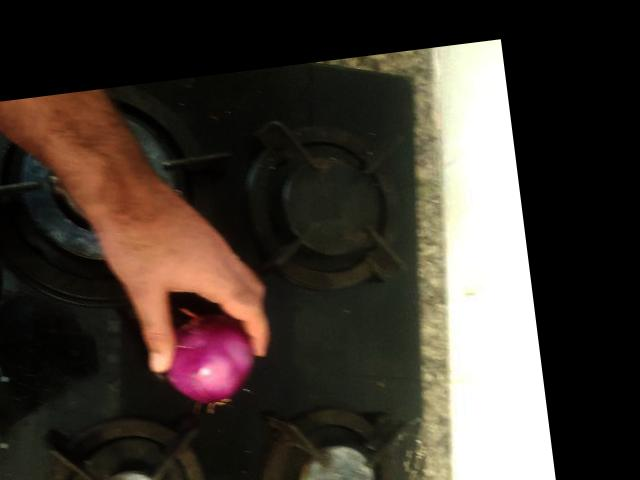onion: (151, 300, 259, 405)
